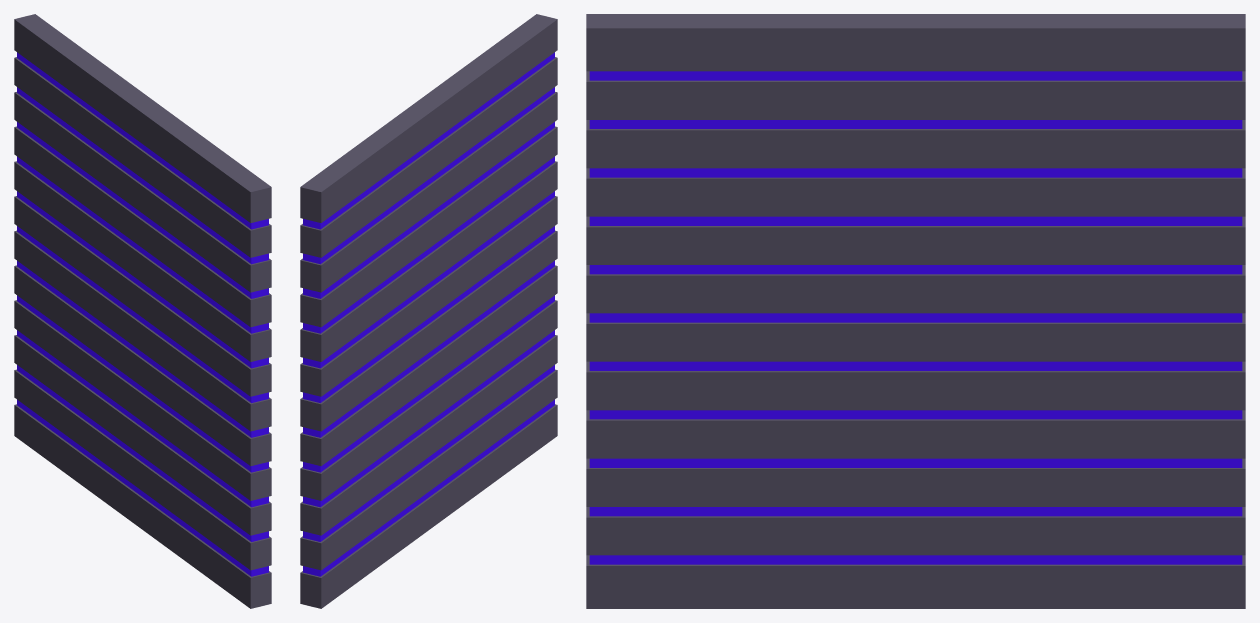
The model's file is DoorFirstFloor.glb.
3 renders of one model, left to right at view 1: azimuth 30°, elevation 25°; view 2: azimuth 150°, elevation 25°; view 3: azimuth 270°, elevation 25°, orthographic. The views are drawn at different scales.
Parts seen in each view (by area): view 1: DoorElevatorFirstFloor; view 2: DoorElevatorFirstFloor; view 3: DoorElevatorFirstFloor.
Boxes of the visible parts, left/top/right/bottom form: DoorElevatorFirstFloor: left=14, top=14, right=271, bottom=608; DoorElevatorFirstFloor: left=300, top=14, right=557, bottom=608; DoorElevatorFirstFloor: left=586, top=14, right=1245, bottom=608.
Size of what is drawn, in the model's own units: 0.147 by 2.77 by 2.85.
1 material, 1 textured.
